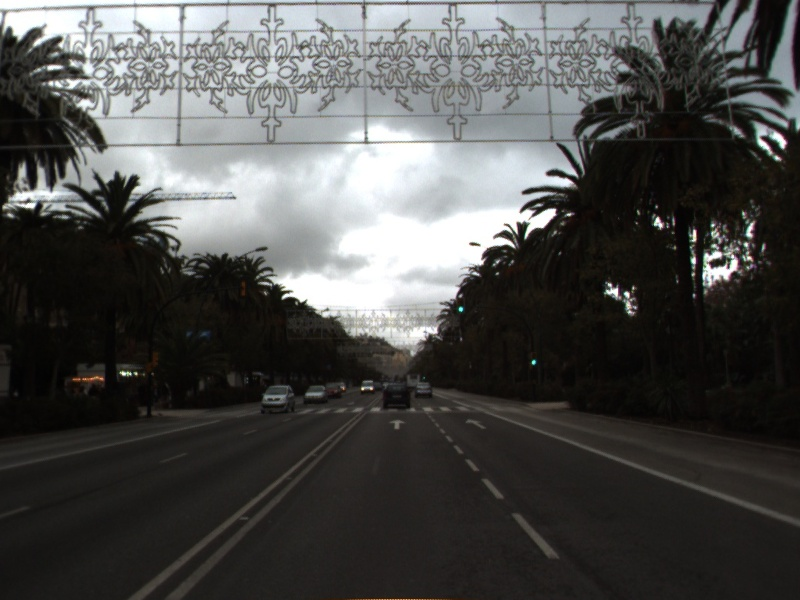STRAIGHT: (463, 416, 489, 431), (387, 417, 408, 431)
